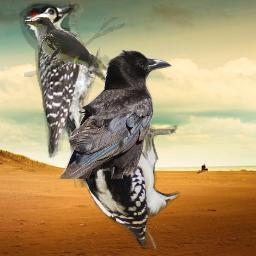Crow: (59, 49, 173, 179)
Cuckoo: (24, 17, 125, 104)
Woodpecker: (17, 1, 106, 188), (84, 101, 180, 249)
